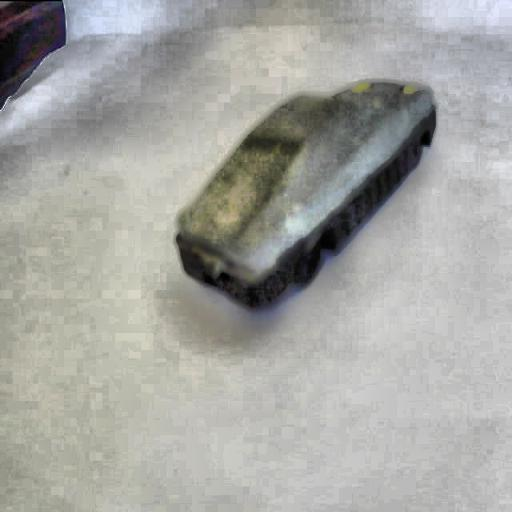normal_car: (171, 82, 436, 312)
